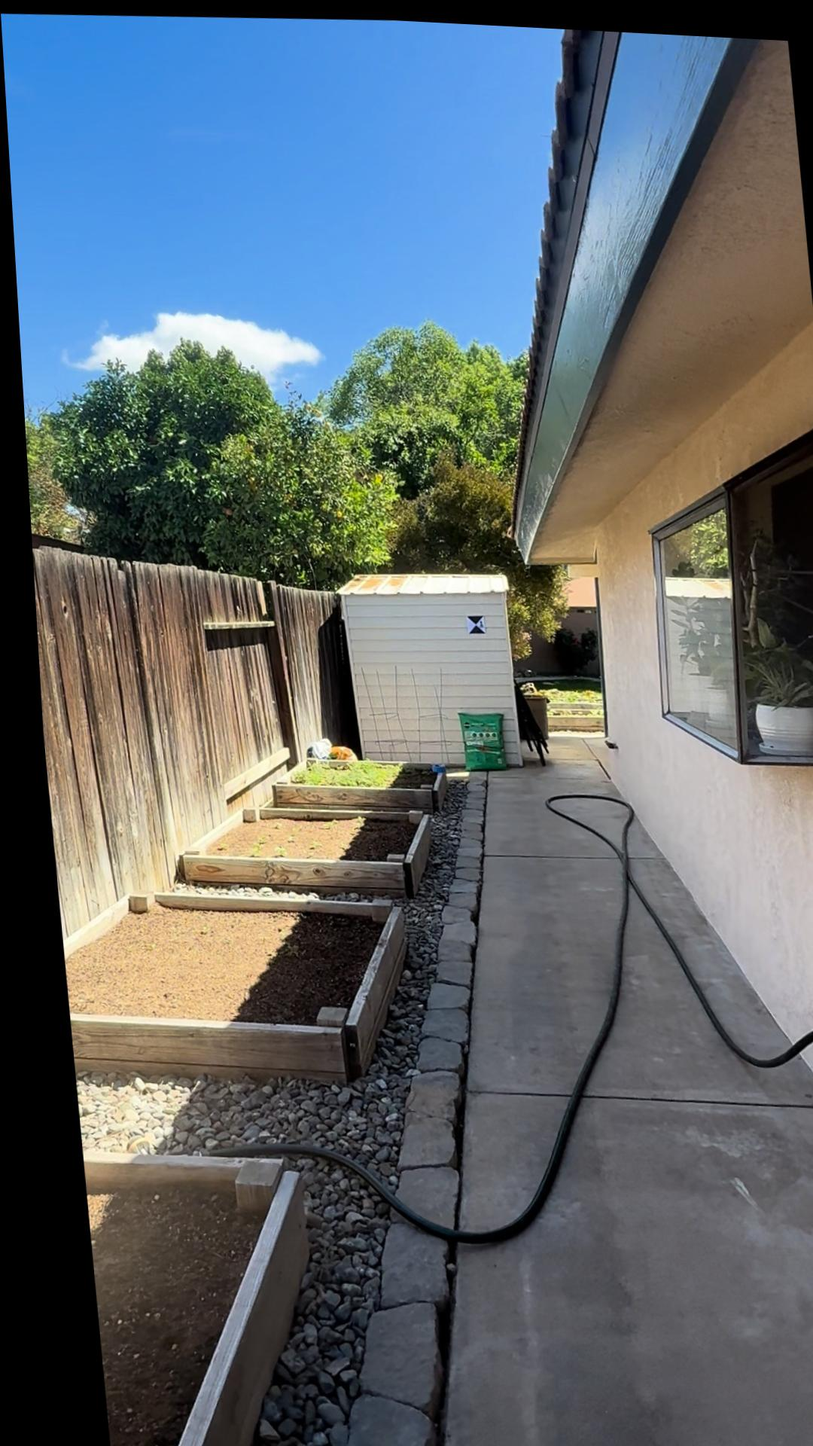target1: (465, 614, 488, 636)
